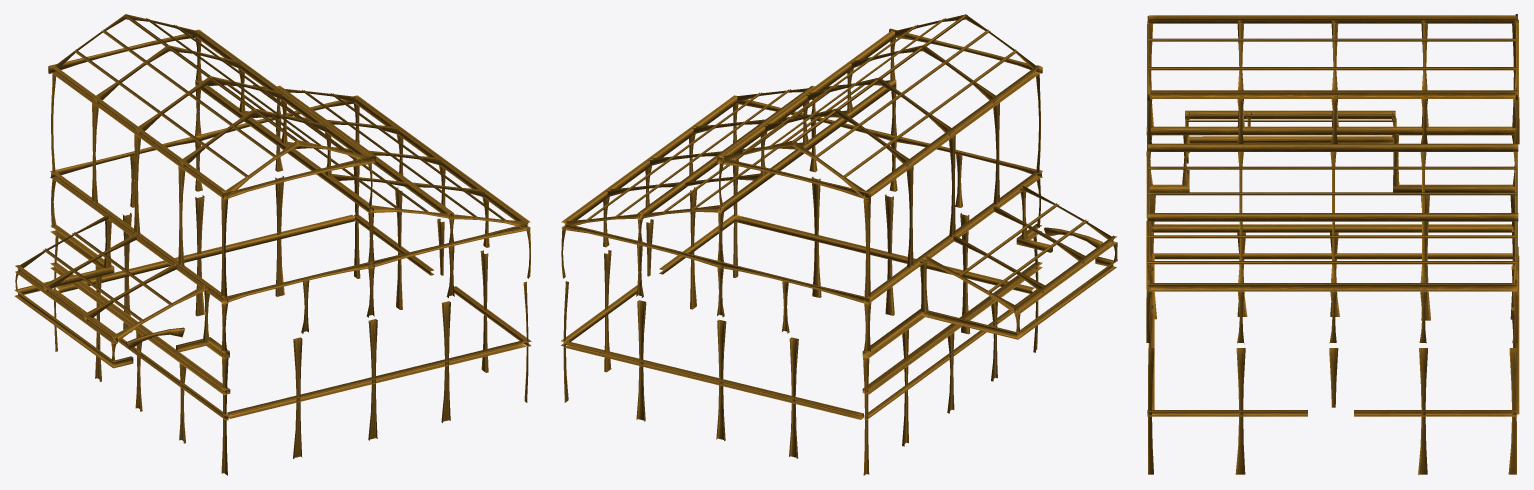
The model's file is HTOWN01_MILLINTRAFTERS.fbx.
The picture shows the model from 3 angles, left to right: view 1: azimuth 30°, elevation 25°; view 2: azimuth 150°, elevation 25°; view 3: azimuth 270°, elevation 25°; orthographic projection. The views are drawn at different scales.
Visible parts, largest first — view 1: HTOWN01_MILLINTRAFTERS; view 2: HTOWN01_MILLINTRAFTERS; view 3: HTOWN01_MILLINTRAFTERS.
Part boxes in pixels (x1,y1,x2,y2): HTOWN01_MILLINTRAFTERS: (14, 14, 531, 475); HTOWN01_MILLINTRAFTERS: (561, 14, 1117, 475); HTOWN01_MILLINTRAFTERS: (1146, 14, 1519, 474).
Size of the model in its own units: 167140 by 126807 by 126760.
Materials: 1 (1 with a texture image).
